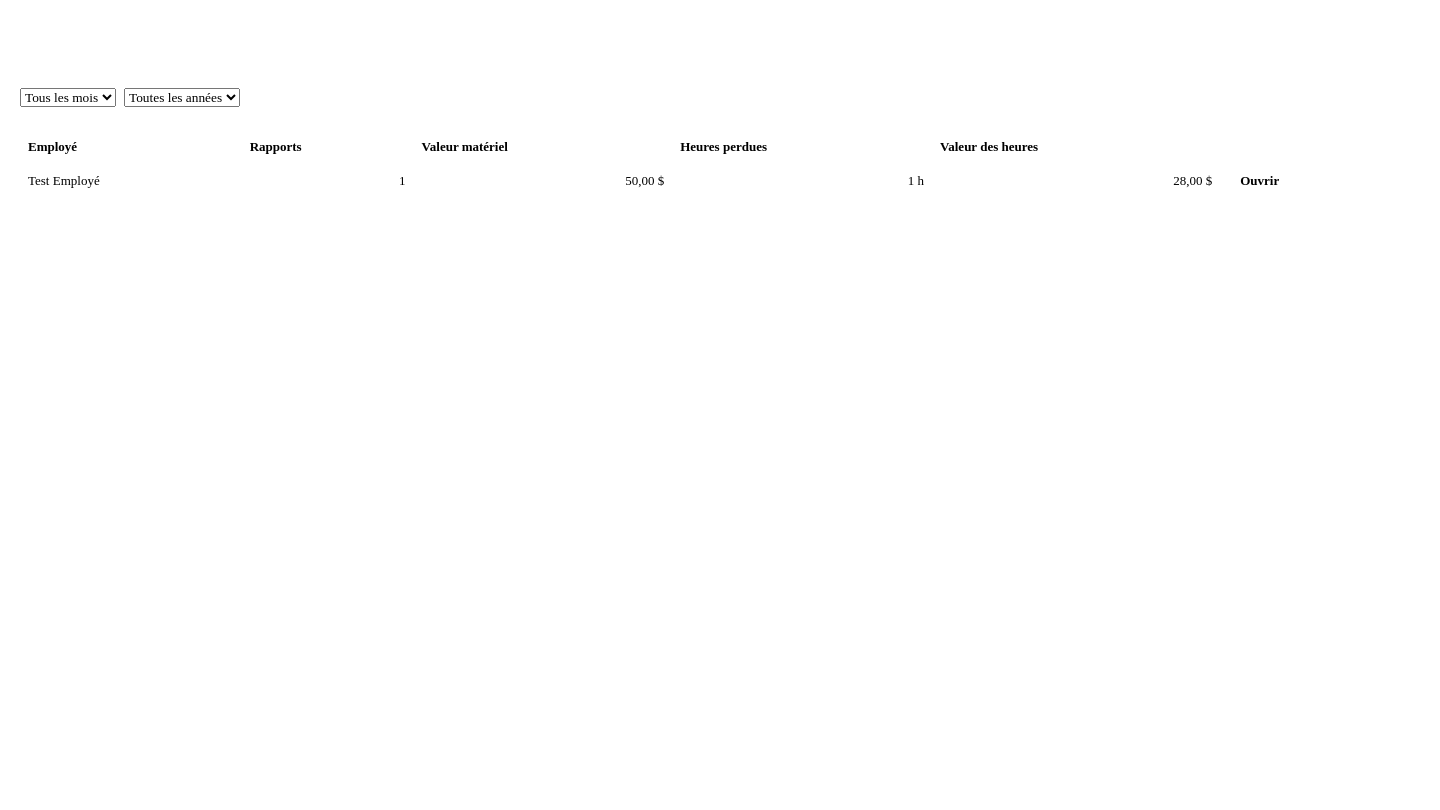
Test: ErrorReportsPage — module Rapport d'erreurs › ouvre le drill-down d'un employé et affiche son rapport
Check: the text "Test Employé" is shown, box [20,161,242,201]
What coordinates should you click on to do the following:
click the button "Ouvrir"
I would click on:
 (1260, 181)
Its box is [1228,167,1291,195].
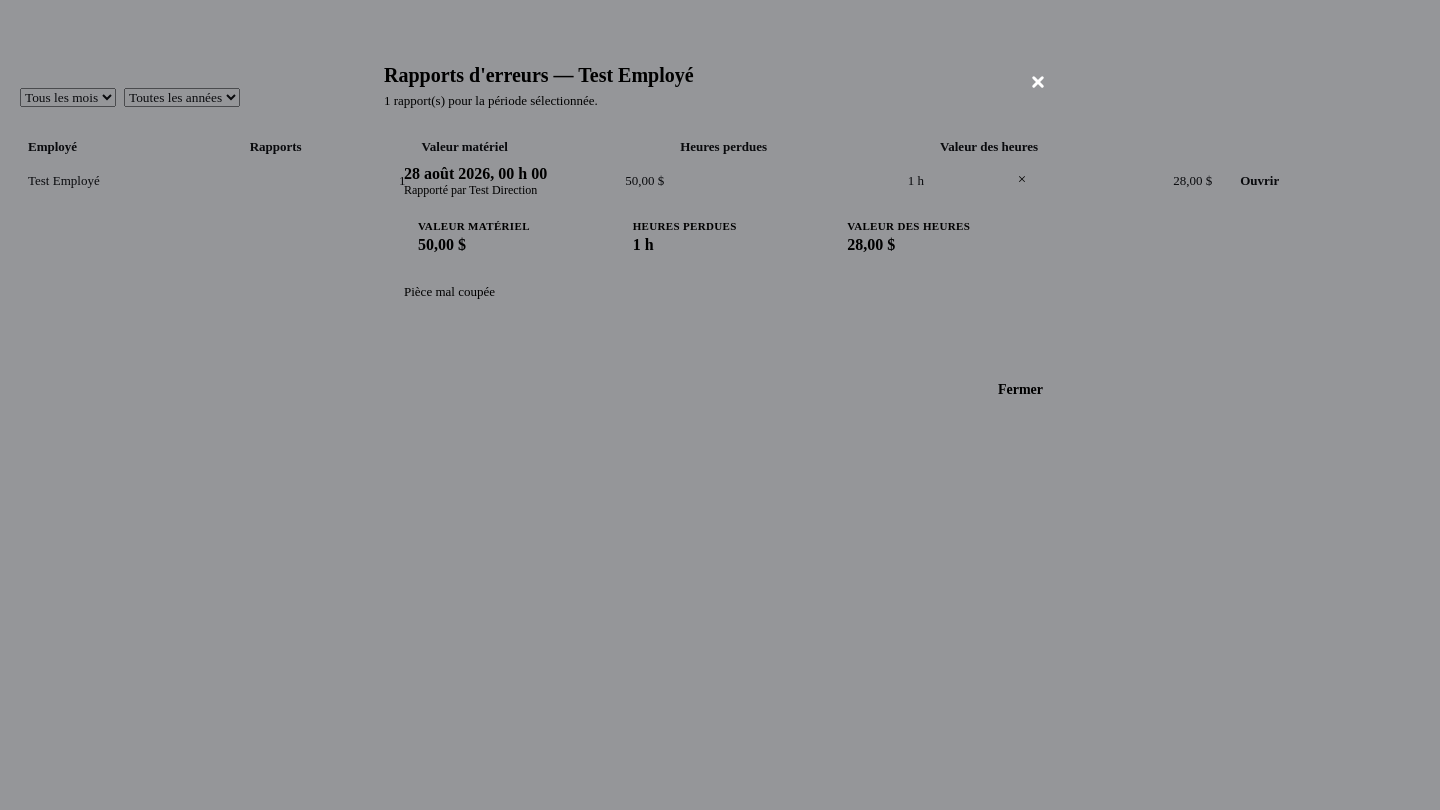
Check: the text "Pièce mal coupée" is shown, box [404,284,495,299]
